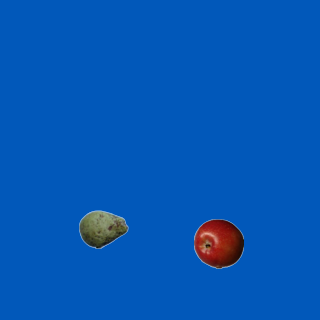Apple Braeburn: (193, 218, 243, 268)
Pear Stone: (78, 204, 128, 254)
